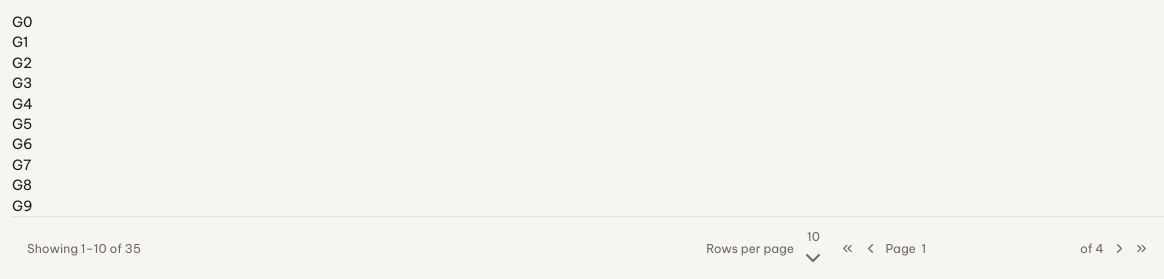
DataTablePager — navigation › last jumps to the final page and disables next/last
What coordinates should you click on to do the following:
click the button named "last page"
I would click on:
 (1142, 249)
Its box is [1134,241,1149,256].
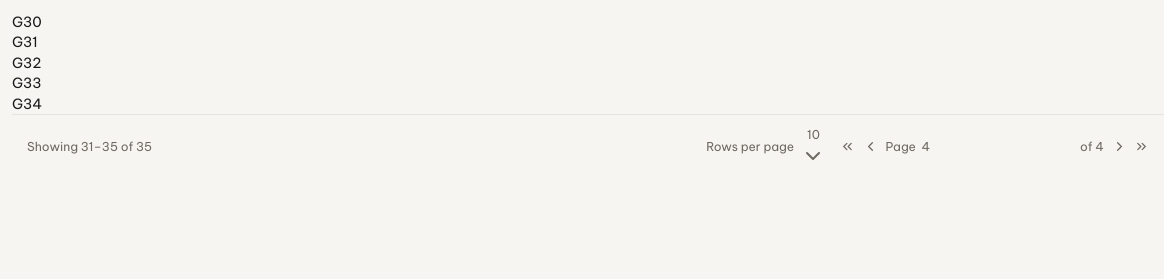
Result: the list item "G34" is shown at [12,95,42,113]
Result: the button named "next page" is disabled at [1112,139,1126,154]
Result: the button named "last page" is disabled at [1134,139,1149,154]
